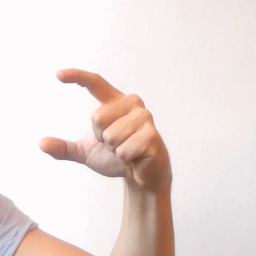C: (37, 66, 175, 190)
